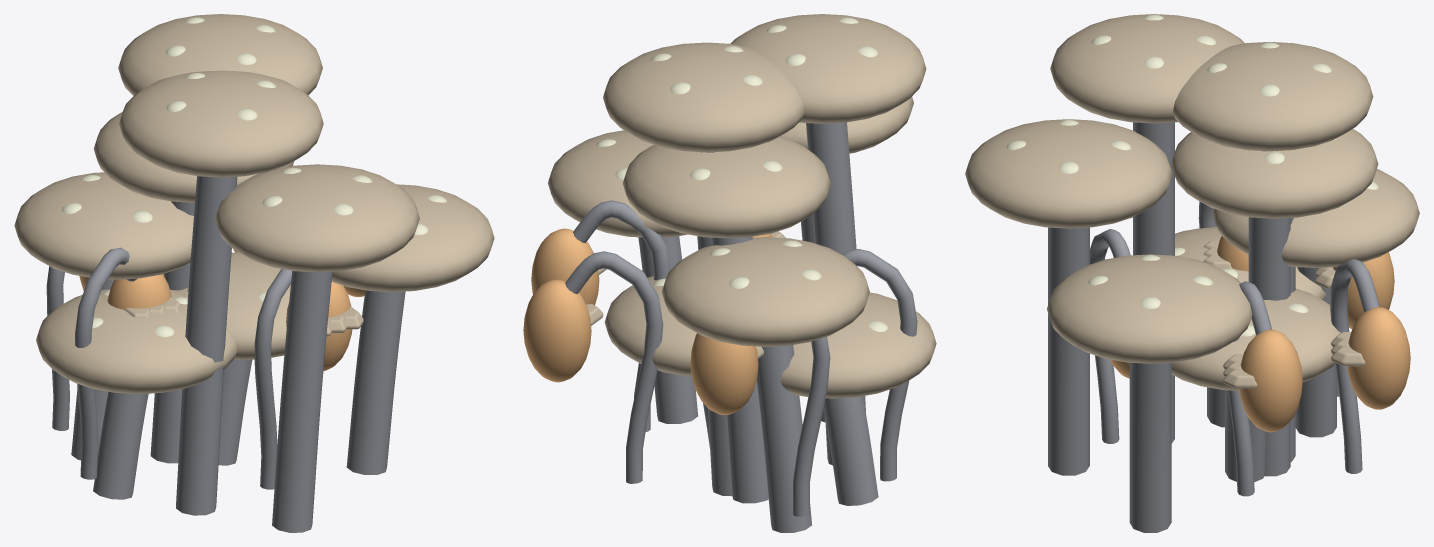
File: bio_spore_fungus_13_near.glb
3 renders of one model, left to right at view 1: azimuth 30°, elevation 25°; view 2: azimuth 150°, elevation 25°; view 3: azimuth 270°, elevation 25°, orthographic.
Parts seen in each view (by area): view 1: Thick umbrella cap.002, Thick umbrella cap.007, Thick umbrella cap.001, Thick umbrella cap.004, Curved stipe.007, Curved stipe.002, Thick umbrella cap.003, Thick umbrella cap.005, Curved stipe.005, Curved stipe.004, Thick umbrella cap, Thick umbrella cap.006 (+13 smaller); view 2: Thick umbrella cap.001, Thick umbrella cap.003, Thick umbrella cap.006, Thick umbrella cap.007, Thick umbrella cap.004, Thick umbrella cap.005, Curved stipe.001, Pendant spore capsule.003, Arched fruit stem.003, Curved stipe.007, Curved stipe.004, Thick umbrella cap (+12 smaller); view 3: Thick umbrella cap.002, Thick umbrella cap.005, Thick umbrella cap.003, Thick umbrella cap.007, Thick umbrella cap.006, Thick umbrella cap.001, Curved stipe.002, Curved stipe.005, Thick umbrella cap, Pendant spore capsule, Pendant spore capsule.003, Curved stipe.003 (+16 smaller).
Boxes of the visible parts, x1=… form: Thick umbrella cap.002: x1=215, y1=164, x2=419, y2=272; Thick umbrella cap.007: x1=119, y1=70, x2=323, y2=177; Thick umbrella cap.001: x1=14, y1=172, x2=193, y2=279; Thick umbrella cap.004: x1=36, y1=289, x2=237, y2=394; Curved stipe.007: x1=176, y1=176, x2=237, y2=515; Curved stipe.002: x1=272, y1=271, x2=332, y2=532; Thick umbrella cap.003: x1=118, y1=14, x2=322, y2=95; Thick umbrella cap.005: x1=331, y1=184, x2=494, y2=292; Curved stipe.005: x1=346, y1=290, x2=405, y2=474; Curved stipe.004: x1=93, y1=391, x2=148, y2=499; Thick umbrella cap: x1=163, y1=252, x2=290, y2=360; Thick umbrella cap.006: x1=93, y1=112, x2=294, y2=202; Thick umbrella cap.001: x1=662, y1=237, x2=869, y2=346; Thick umbrella cap.003: x1=603, y1=42, x2=804, y2=152; Thick umbrella cap.006: x1=622, y1=136, x2=830, y2=238; Thick umbrella cap.007: x1=730, y1=14, x2=926, y2=123; Thick umbrella cap.004: x1=780, y1=292, x2=936, y2=398; Thick umbrella cap.005: x1=548, y1=130, x2=687, y2=237; Curved stipe.001: x1=756, y1=345, x2=811, y2=532; Pendant spore capsule.003: x1=523, y1=279, x2=591, y2=382; Arched fruit stem.003: x1=565, y1=251, x2=663, y2=483; Curved stipe.007: x1=806, y1=122, x2=865, y2=465; Curved stipe.004: x1=823, y1=396, x2=878, y2=505; Thick umbrella cap: x1=604, y1=275, x2=696, y2=376; Thick umbrella cap.002: x1=965, y1=119, x2=1172, y2=228; Thick umbrella cap.005: x1=1047, y1=254, x2=1252, y2=363; Thick umbrella cap.003: x1=1173, y1=42, x2=1373, y2=151; Thick umbrella cap.007: x1=1050, y1=14, x2=1244, y2=123; Thick umbrella cap.006: x1=1171, y1=129, x2=1378, y2=218; Thick umbrella cap.001: x1=1212, y1=169, x2=1419, y2=267; Curved stipe.002: x1=1048, y1=227, x2=1089, y2=475; Curved stipe.005: x1=1129, y1=362, x2=1171, y2=532; Thick umbrella cap: x1=1171, y1=288, x2=1340, y2=390; Pendant spore capsule: x1=1239, y1=329, x2=1302, y2=432; Pendant spore capsule.003: x1=1347, y1=307, x2=1410, y2=409; Curved stipe.003: x1=1248, y1=151, x2=1290, y2=476.
Size of the model in its own units: 1.86 by 1.87 by 1.84.
